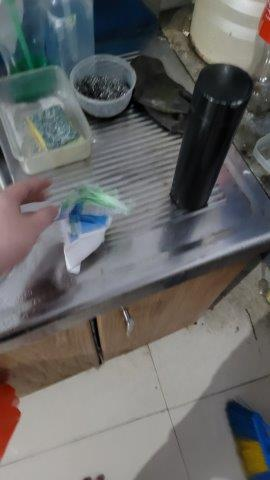kertas: (46, 186, 130, 280)
